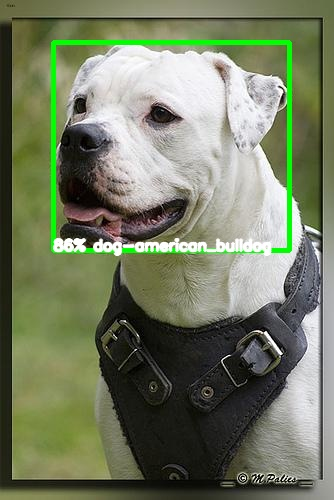dog-american_bulldog: (54, 42, 288, 252)
